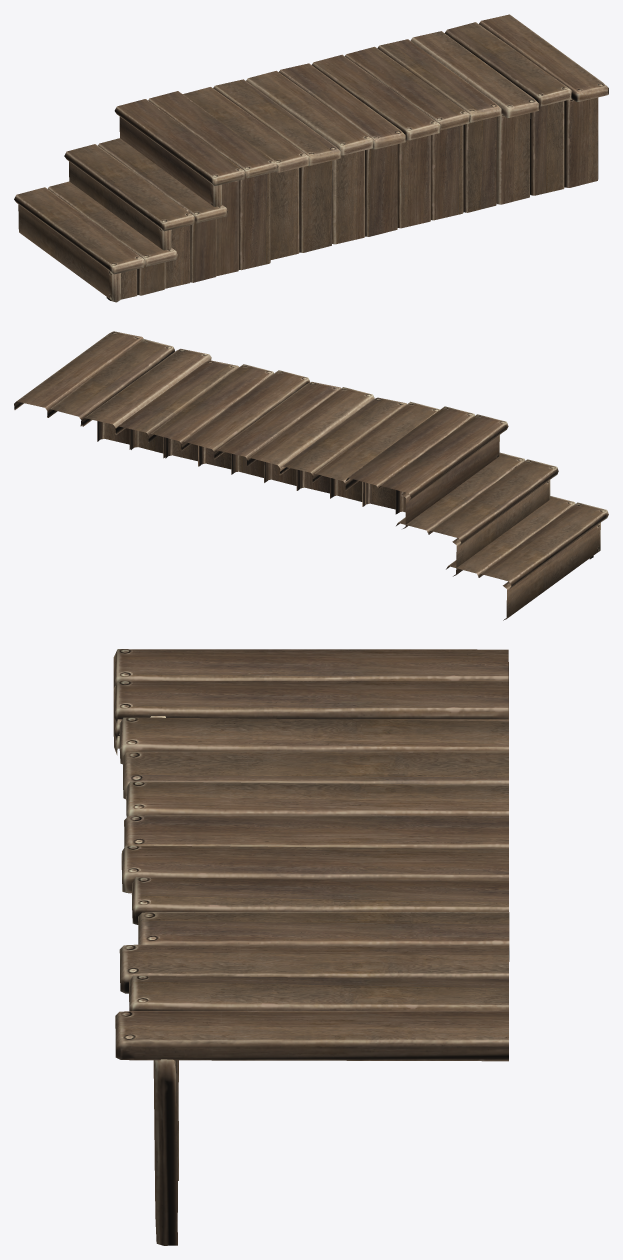
The model's file is Steps.FBX.
The picture shows the model from 3 angles, top to bottom: view 1: azimuth 30°, elevation 25°; view 2: azimuth 150°, elevation 25°; view 3: azimuth 270°, elevation 25°; orthographic projection. The views are drawn at different scales.
Visible parts, largest first — view 1: Wood_Floor_Tile003; view 2: Wood_Floor_Tile003; view 3: Wood_Floor_Tile003.
Part boxes in pixels (<box>): Wood_Floor_Tile003: <box>14,14,608,302</box>; Wood_Floor_Tile003: <box>14,331,608,620</box>; Wood_Floor_Tile003: <box>113,649,509,1245</box>.
Size of the model in its own units: 350 by 71.38 by 120.
